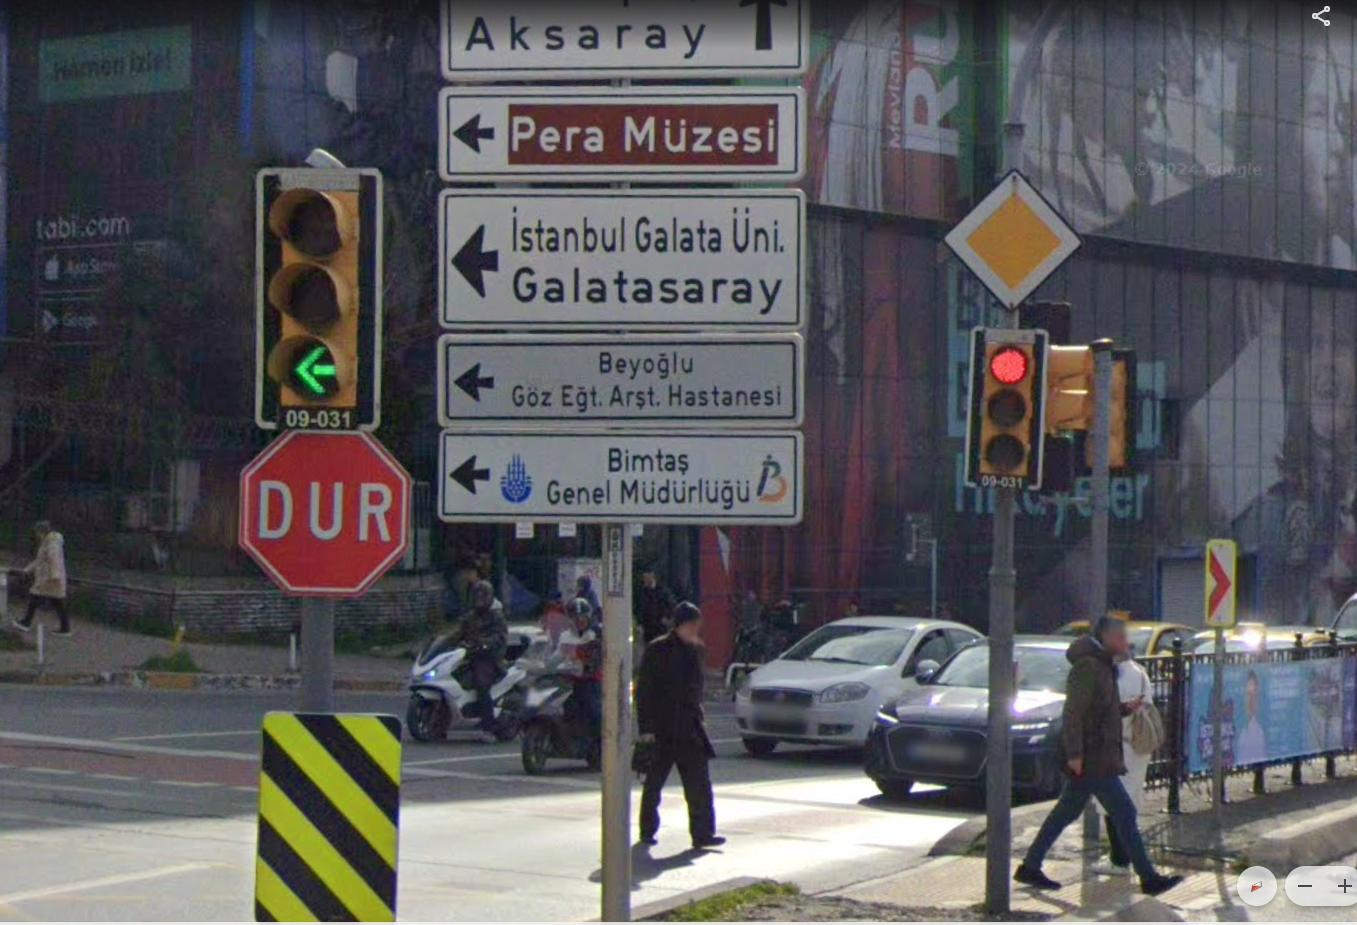greenlight: (259, 180, 365, 404)
redlight: (973, 324, 1040, 474)
stop: (242, 432, 407, 589)
